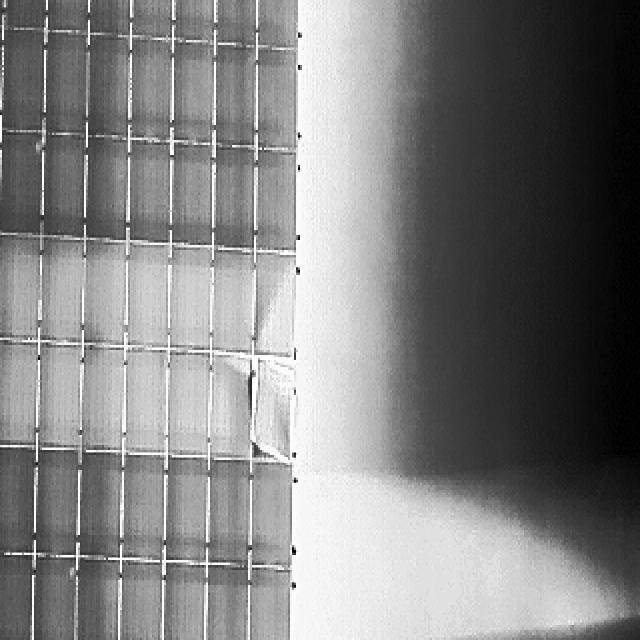PV-modules: (81, 244, 131, 350), (212, 146, 262, 250), (121, 32, 168, 137), (34, 451, 80, 558), (166, 452, 211, 561), (38, 346, 84, 452), (38, 239, 84, 345), (0, 232, 44, 340), (252, 461, 295, 570), (2, 130, 47, 234), (119, 456, 163, 562), (122, 352, 166, 458), (76, 453, 120, 559), (206, 460, 249, 568), (120, 140, 165, 242), (170, 246, 214, 350), (4, 25, 48, 129), (78, 349, 122, 453), (207, 352, 251, 456), (169, 354, 212, 460), (41, 134, 85, 236), (250, 148, 293, 252), (44, 32, 87, 136), (124, 244, 167, 348), (210, 249, 253, 353), (84, 137, 127, 240), (255, 253, 297, 358), (173, 42, 215, 146), (252, 42, 294, 146), (172, 147, 214, 250), (89, 36, 131, 138), (253, 358, 294, 461), (215, 40, 255, 143), (32, 552, 76, 640), (162, 557, 208, 640), (0, 340, 36, 445), (72, 555, 116, 640), (0, 550, 40, 640), (114, 560, 158, 640), (248, 565, 294, 640), (202, 562, 246, 640), (0, 448, 32, 552), (12, 0, 82, 31), (256, 0, 299, 46), (213, 0, 256, 45), (172, 0, 215, 41), (128, 0, 172, 35), (88, 0, 131, 35), (46, 0, 90, 30), (1, 0, 46, 29), (0, 25, 2, 127), (0, 0, 2, 28), (0, 0, 2, 25)
